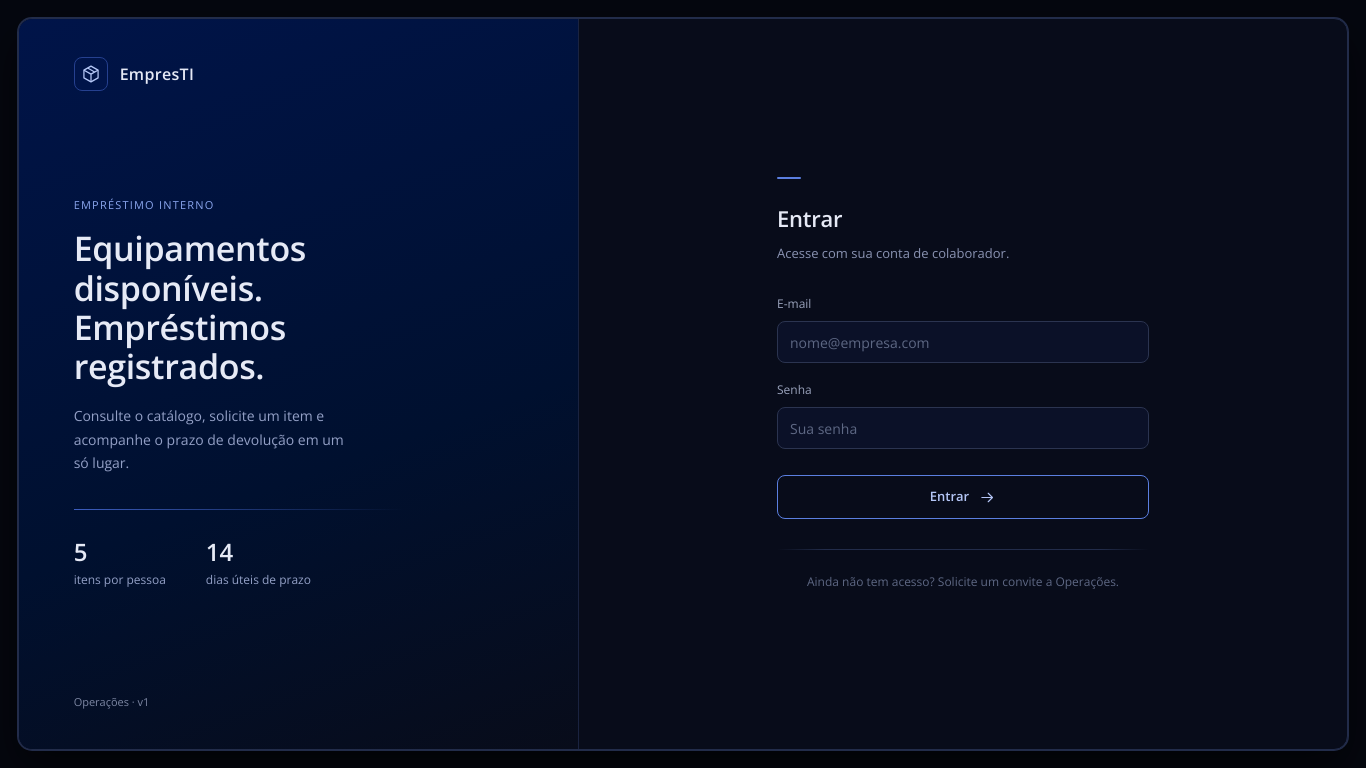
Test: Formulário de login › test_ca_02_ca_06_campos_invalidos_mostram_erros_acessiveis_sem_chamar_api
Type "email-invalido" into the field labelled "E-mail".
click(963, 342); type("email-invalido")  # box [777,321,1149,363]
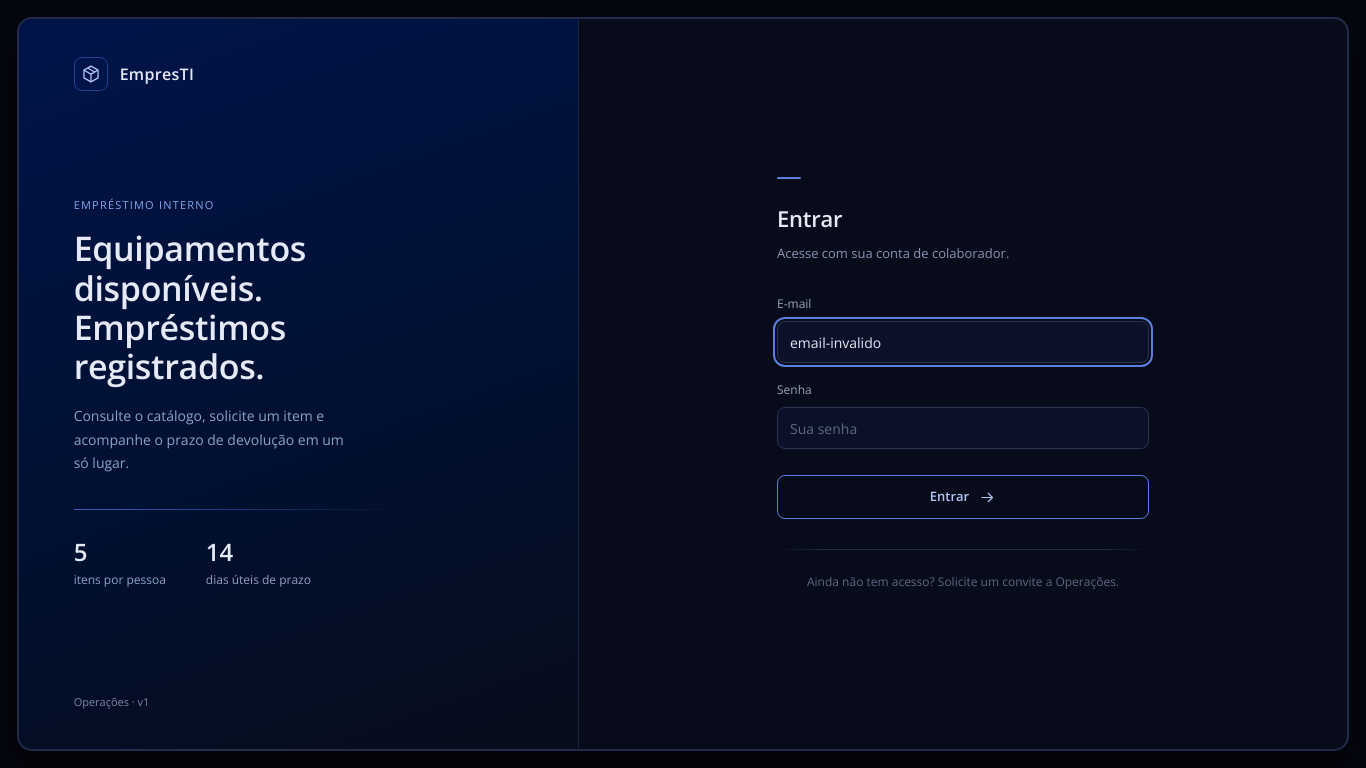
Click the button "Entrar".
click(963, 497)  # box [777,475,1149,519]
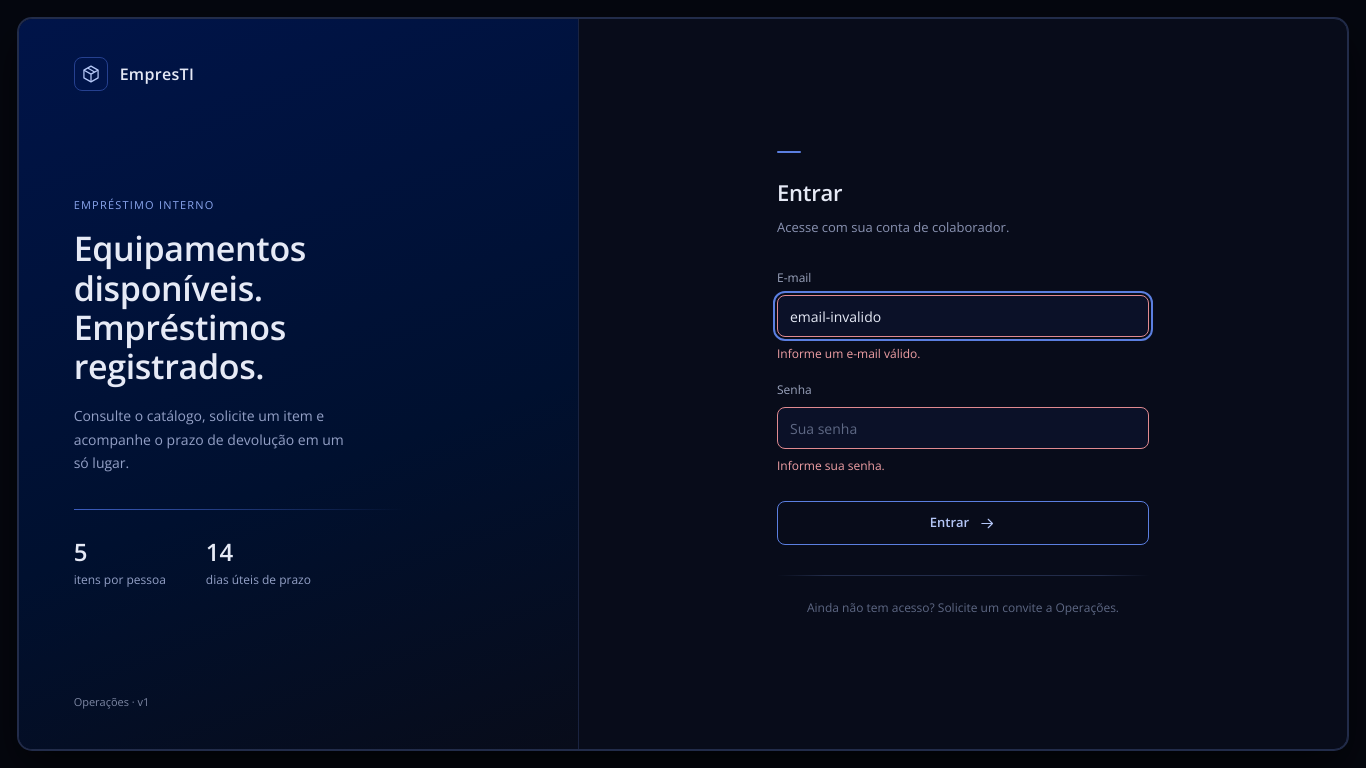
Expected: the text "Informe um e-mail válido." is shown, [777,345,920,362]
Expected: the text "Informe sua senha." is shown, [777,457,885,474]
